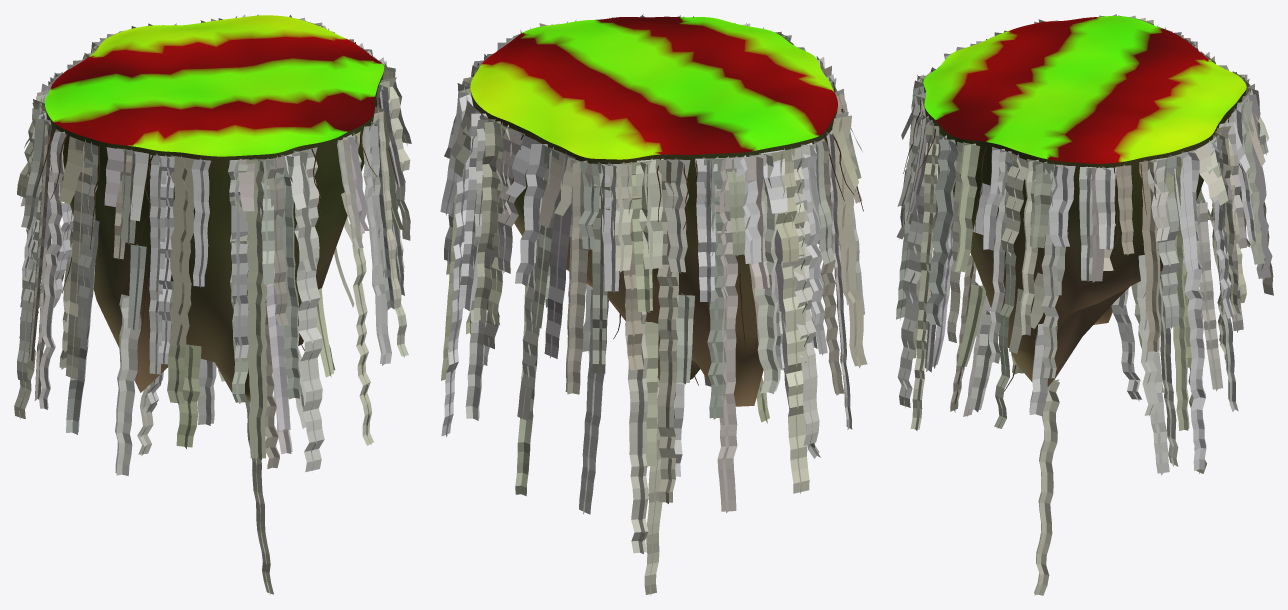
Rendered from SM_H05_Floater04.fbx.
The picture shows the model from 3 angles, left to right: view 1: azimuth 30°, elevation 25°; view 2: azimuth 150°, elevation 25°; view 3: azimuth 270°, elevation 25°; orthographic projection. The views are drawn at different scales.
Visible parts, largest first — view 1: SM_H05_Floater04_Ivy, SM_H05_Floater04; view 2: SM_H05_Floater04_Ivy, SM_H05_Floater04; view 3: SM_H05_Floater04_Ivy, SM_H05_Floater04.
Part boxes in pixels (x1,y1,x2,y2): SM_H05_Floater04_Ivy: (14,14,411,595); SM_H05_Floater04: (45,15,384,400); SM_H05_Floater04_Ivy: (440,14,867,595); SM_H05_Floater04: (470,16,837,406); SM_H05_Floater04_Ivy: (896,14,1273,595); SM_H05_Floater04: (923,16,1246,386).
Size of the model in its own units: 34.45 by 46.91 by 32.17.
